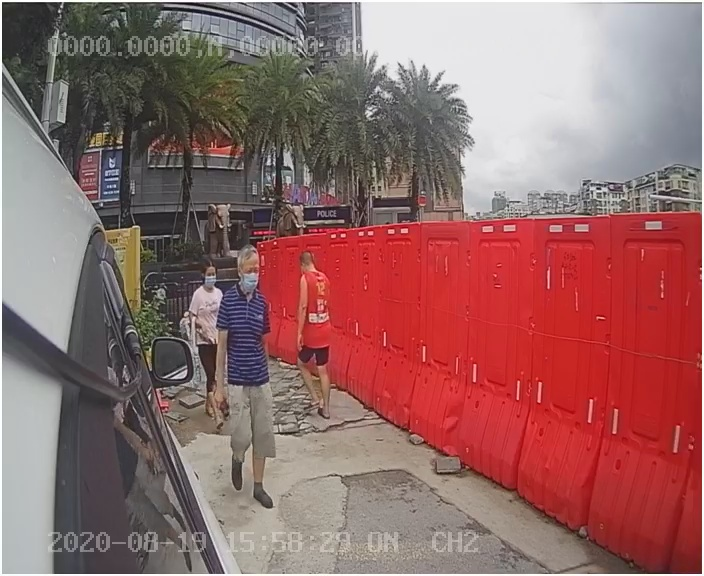person: (204, 244, 297, 510), (281, 245, 355, 425)
